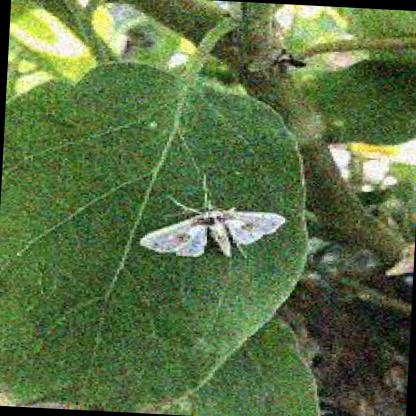leucinodes: (138, 199, 284, 259)
